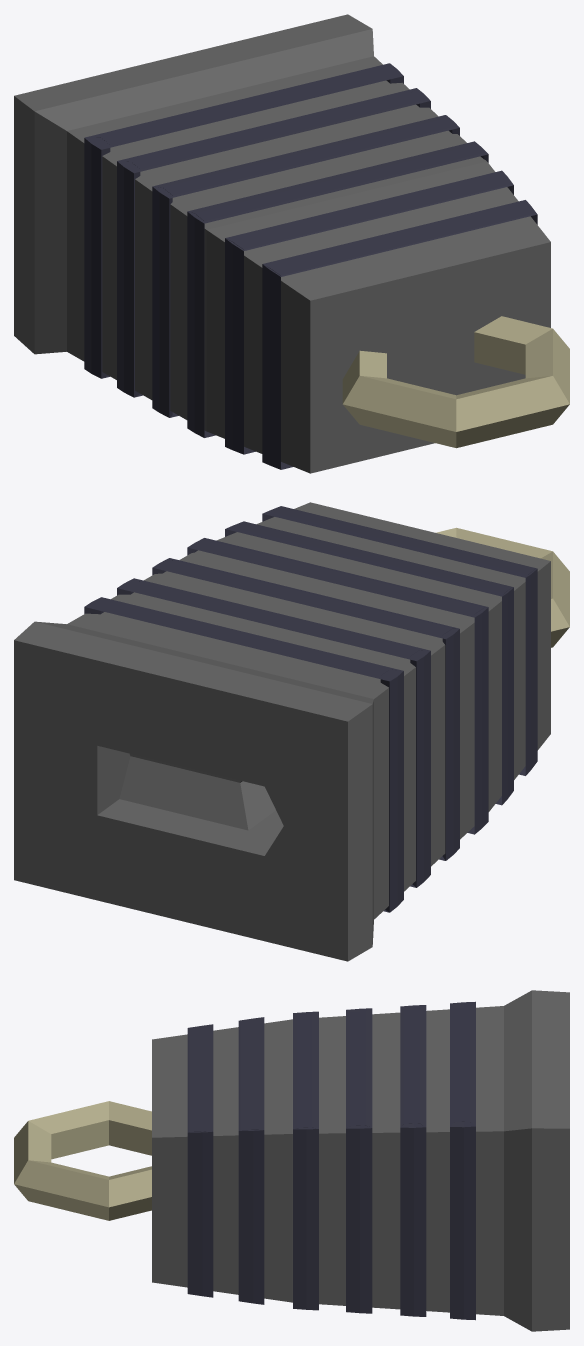
File: Lock.fbx
3 views of the same model, one above another, from view 1: azimuth 30°, elevation 25°; view 2: azimuth 150°, elevation 25°; view 3: azimuth 270°, elevation 25° (orthographic). The views are drawn at different scales.
Parts seen in each view (by area): view 1: Cube, Torus.007, Torus.001, Torus.002, Torus.003, Torus.005, Torus.004, Torus.006; view 2: Cube, Torus.001, Torus.002, Torus.003, Torus.004, Torus.005, Torus.006, Torus.007; view 3: Cube, Torus.007, Torus.002, Torus.001, Torus.003, Torus.004, Torus.005, Torus.006.
Boxes of the visible parts, left/top/right/bottom form: Cube: left=14, top=14, right=550, bottom=473; Torus.007: left=342, top=316, right=569, bottom=448; Torus.001: left=84, top=63, right=403, bottom=378; Torus.002: left=117, top=88, right=430, bottom=397; Torus.003: left=152, top=115, right=459, bottom=417; Torus.005: left=225, top=170, right=513, bottom=454; Torus.004: left=187, top=141, right=488, bottom=437; Torus.006: left=262, top=200, right=537, bottom=469; Cube: left=14, top=502, right=550, bottom=961; Torus.001: left=84, top=597, right=403, bottom=912; Torus.002: left=117, top=578, right=430, bottom=887; Torus.003: left=152, top=558, right=459, bottom=860; Torus.004: left=187, top=538, right=488, bottom=834; Torus.005: left=225, top=521, right=513, bottom=805; Torus.006: left=262, top=506, right=537, bottom=775; Torus.007: left=435, top=527, right=569, bottom=647; Cube: left=152, top=990, right=569, bottom=1331; Torus.007: left=14, top=1101, right=151, bottom=1220; Torus.002: left=400, top=1005, right=426, bottom=1316; Torus.001: left=450, top=1001, right=475, bottom=1320; Torus.003: left=346, top=1008, right=372, bottom=1313; Torus.004: left=293, top=1011, right=318, bottom=1310; Torus.005: left=238, top=1017, right=264, bottom=1304; Torus.006: left=187, top=1024, right=213, bottom=1297.
Bounding box in the file's own units: 220 × 151 × 375.
